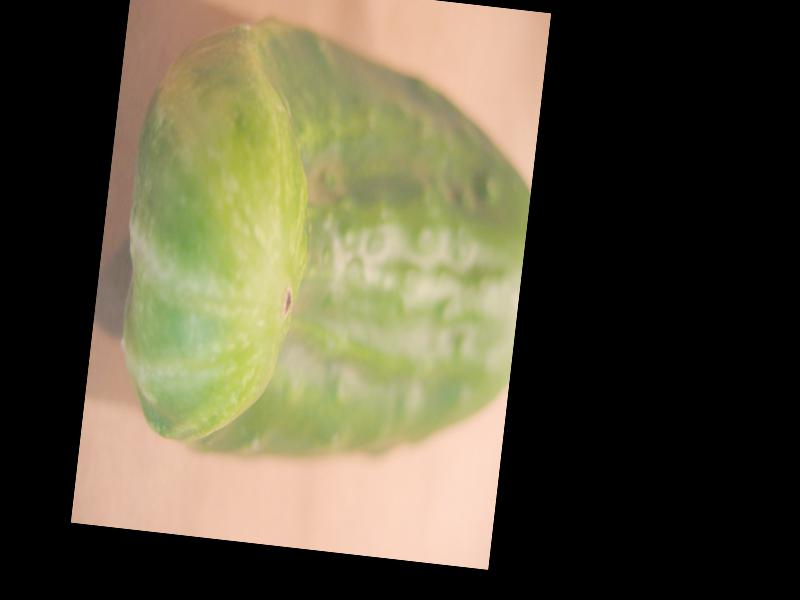Cucumber: (105, 7, 545, 488)
